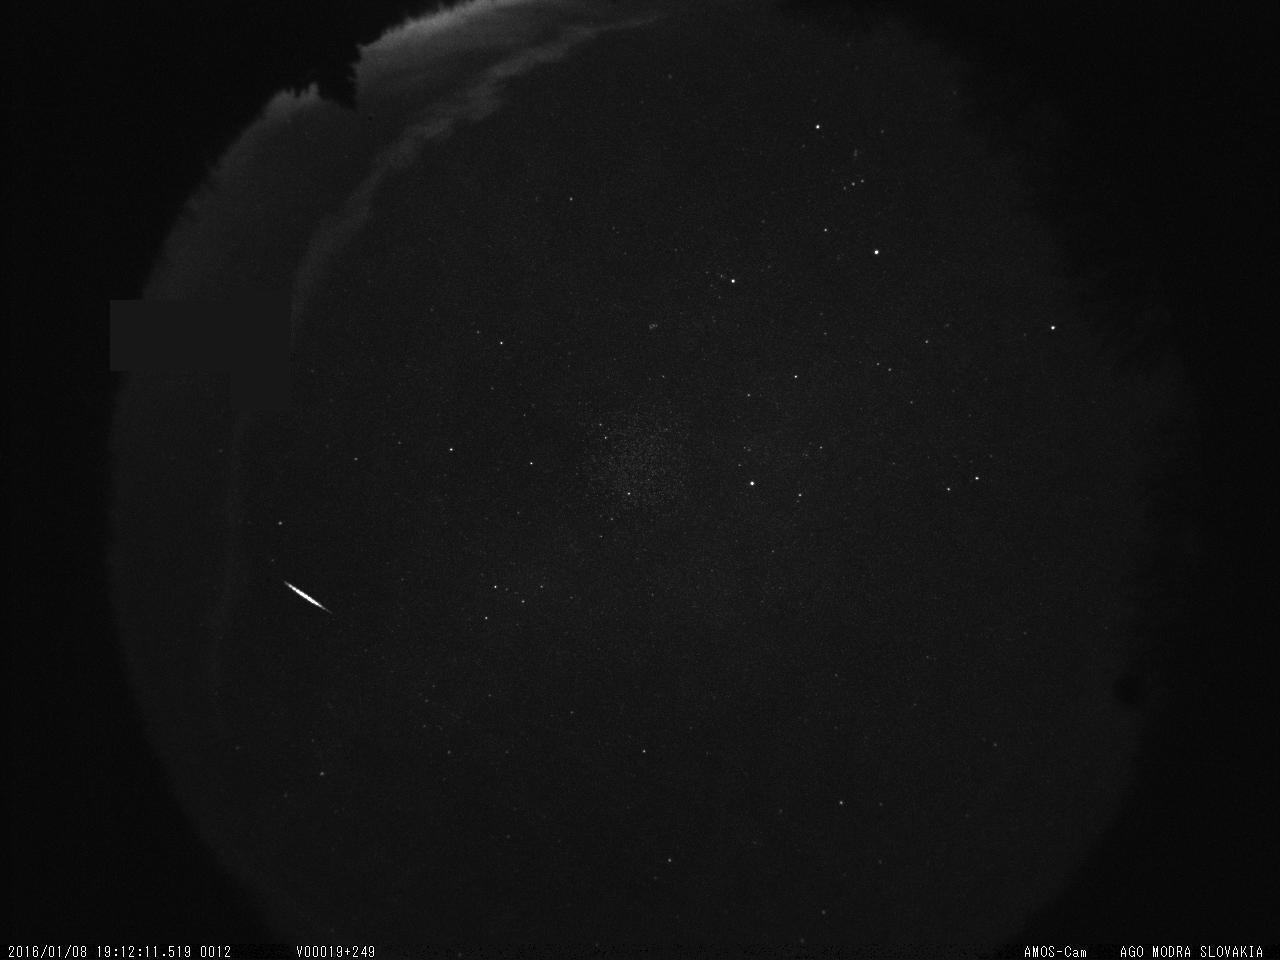Meteor: (277, 577, 338, 618)
